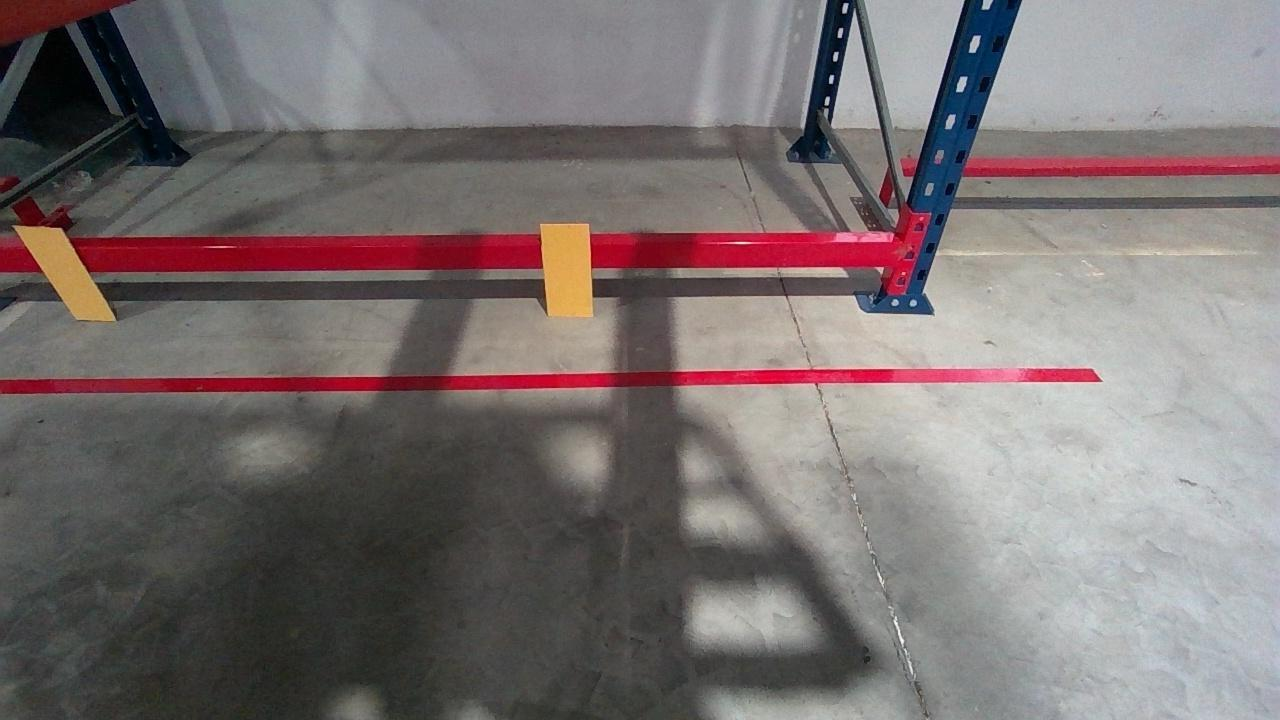orange_strip: (7, 226, 116, 320), (539, 222, 594, 315)
red_line: (0, 365, 1099, 392)
